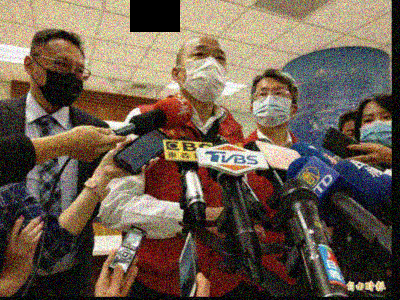with_mask: (33, 50, 85, 106), (179, 42, 227, 102), (252, 84, 294, 126), (359, 108, 391, 147)
